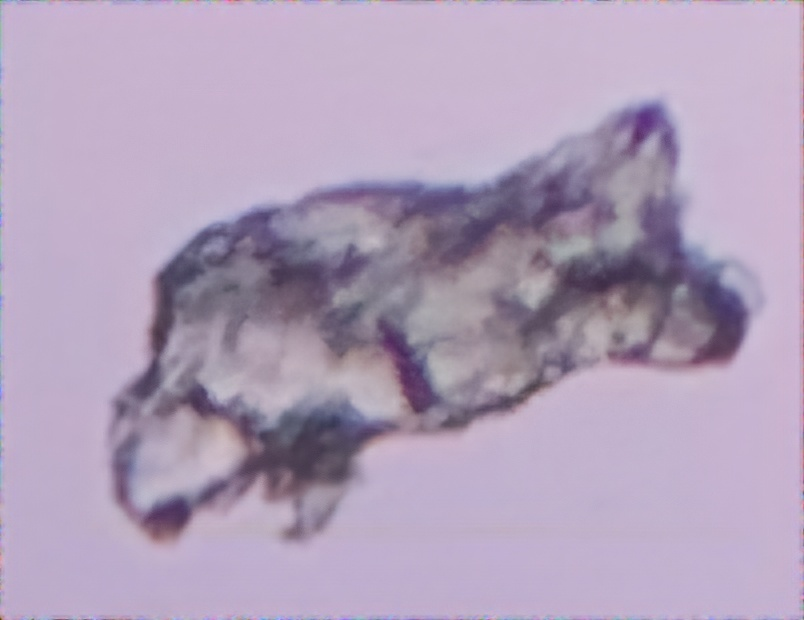microplastic: (102, 94, 783, 559)
